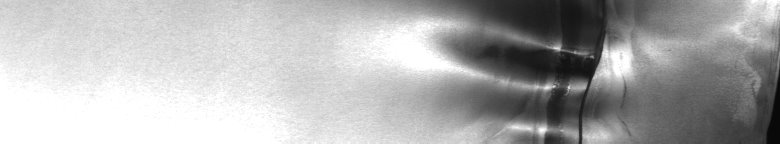ke: (420, 4, 776, 136)
